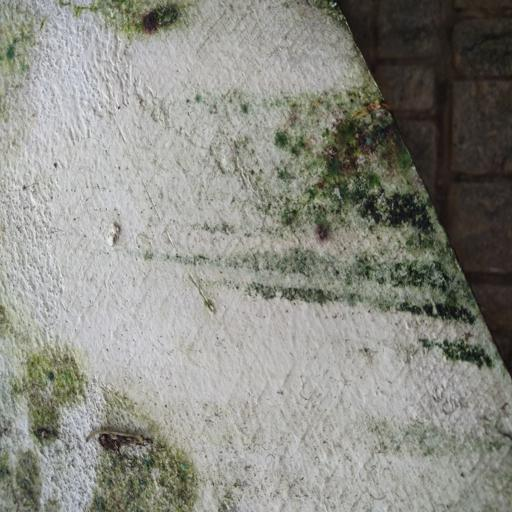algae: (124, 8, 512, 512)
